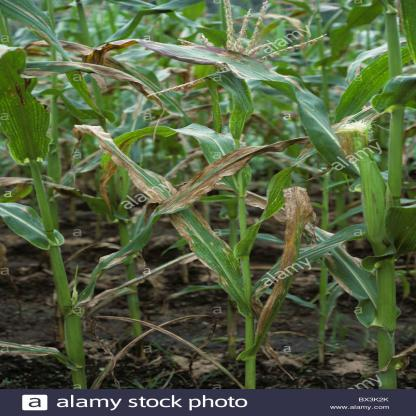corn leaf blight: (73, 136, 318, 302), (82, 40, 357, 173), (72, 122, 241, 310), (250, 184, 314, 353), (25, 61, 175, 117), (1, 40, 56, 176)
